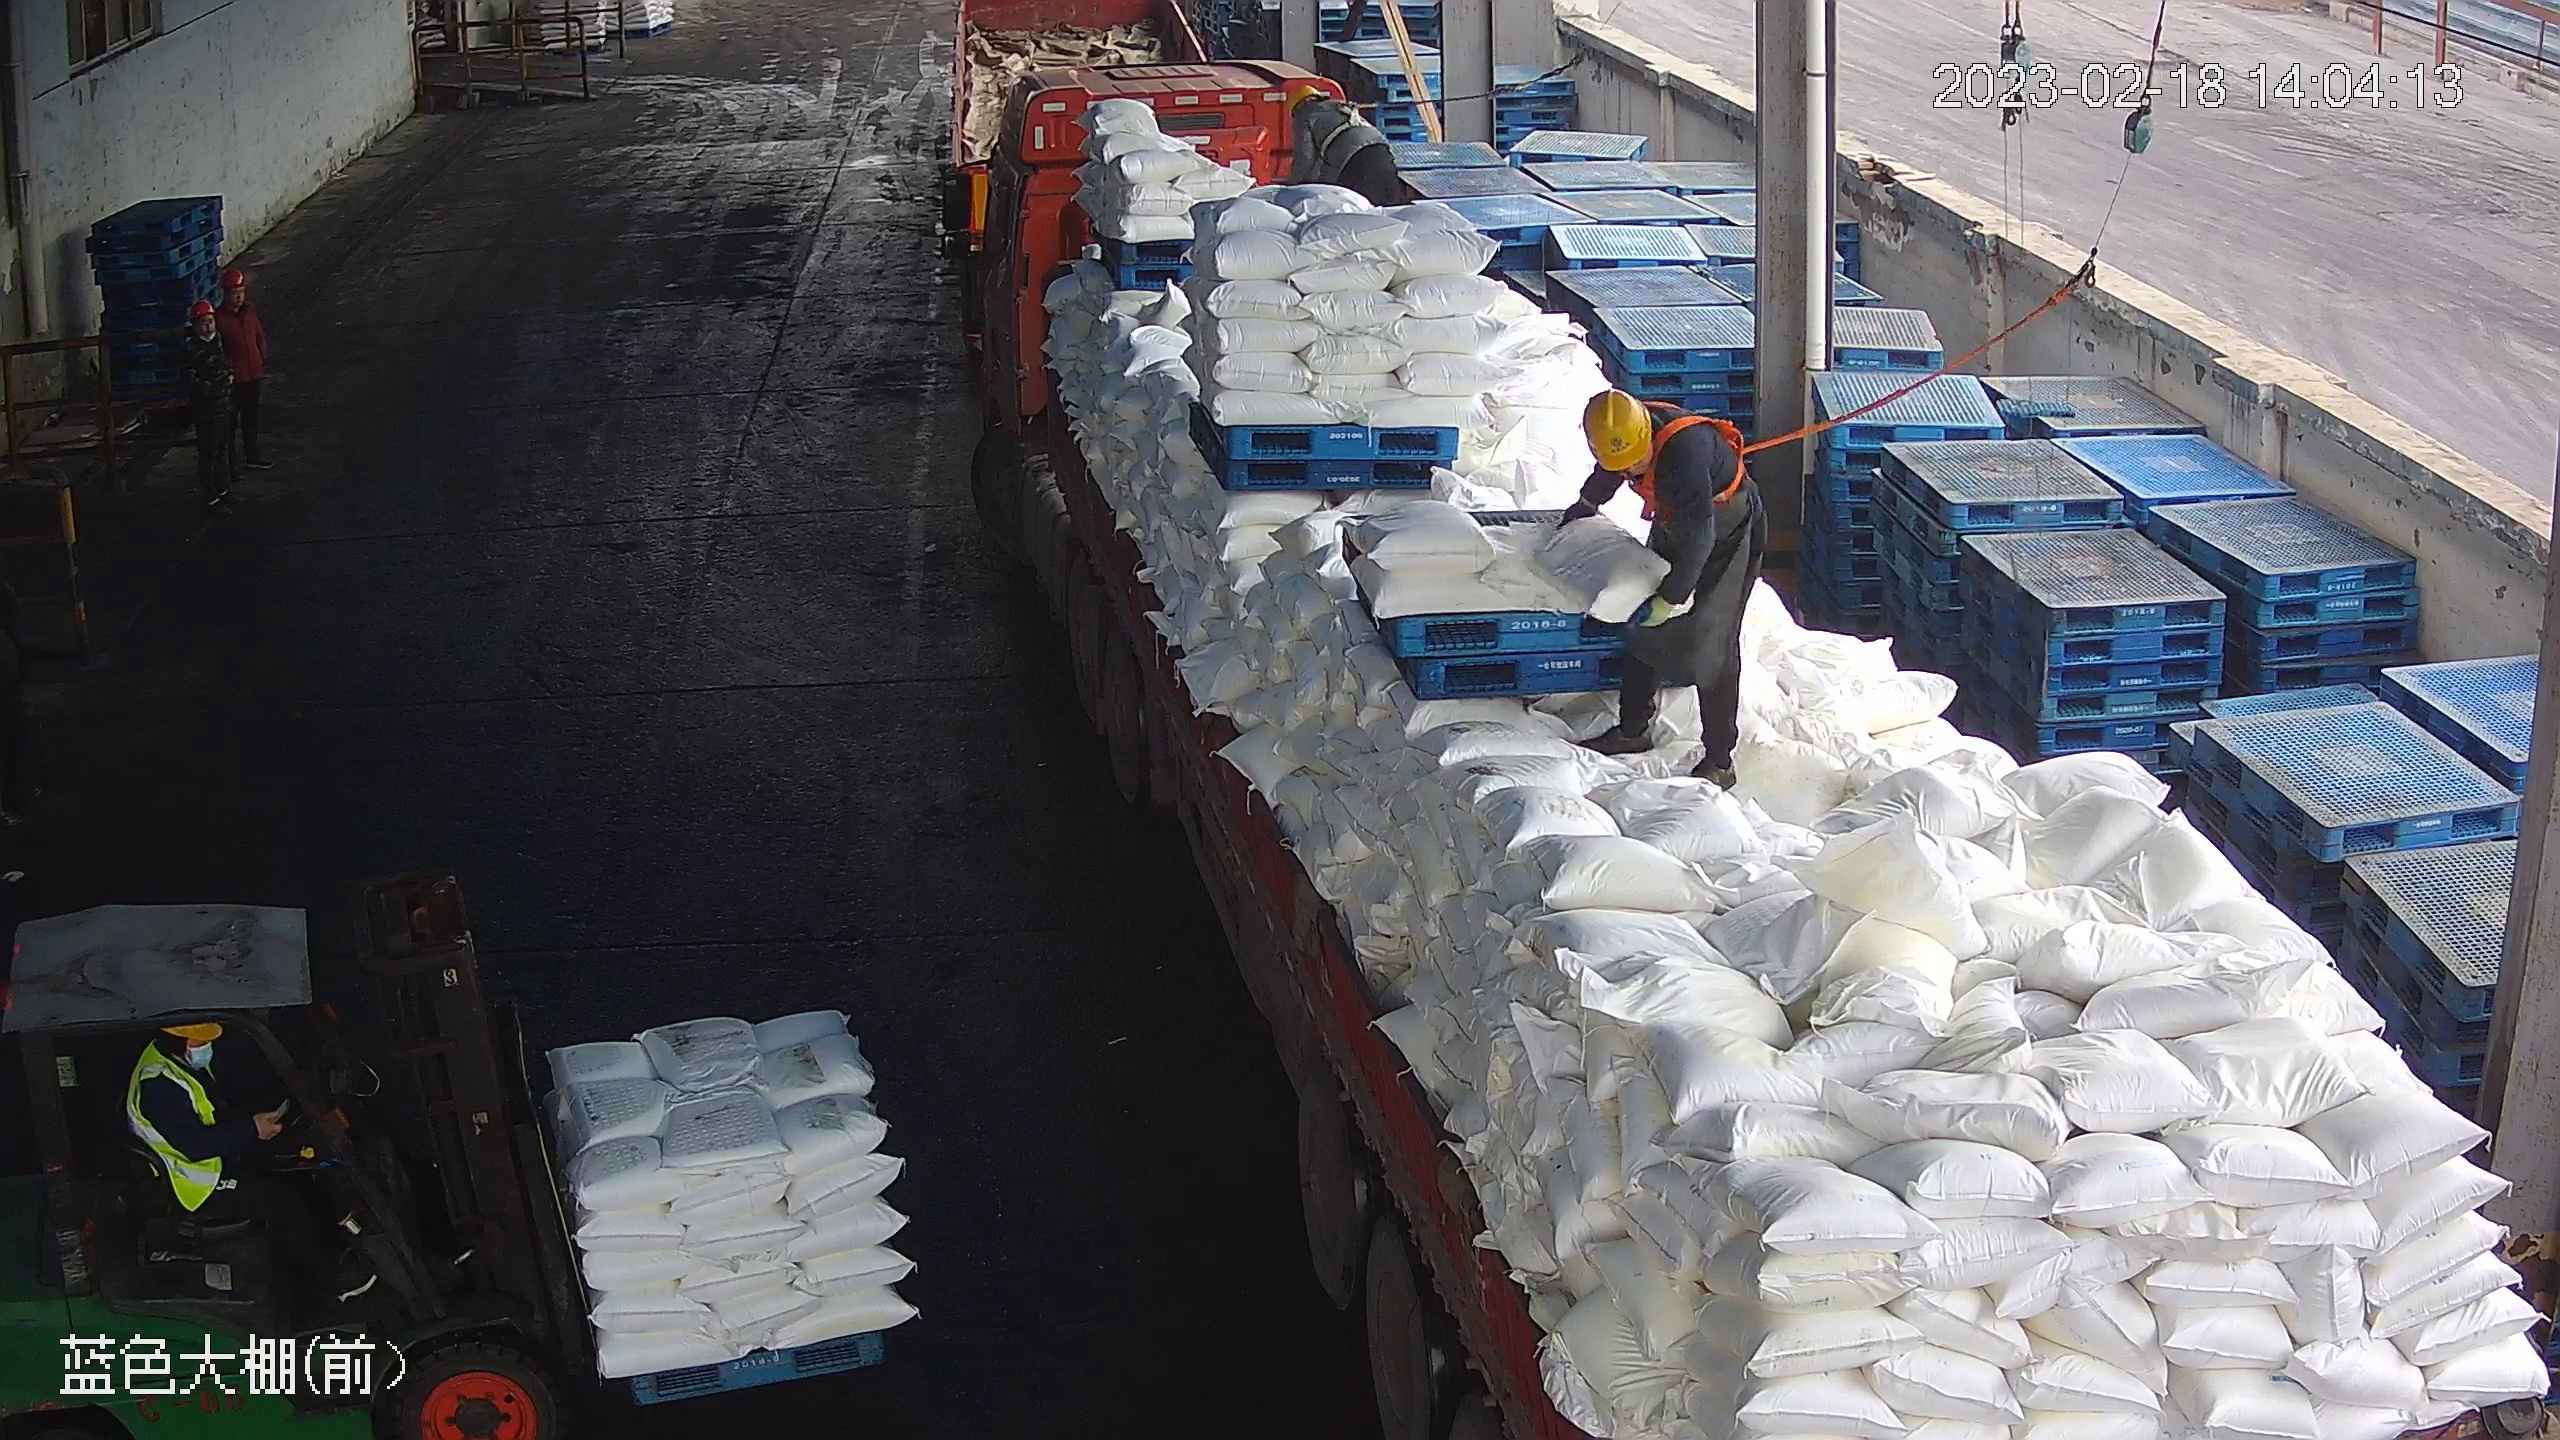belt: (1639, 403, 1757, 512), (1311, 96, 1374, 158)
head: (1577, 385, 1719, 496), (133, 1016, 237, 1115), (1288, 84, 1363, 138), (207, 254, 267, 318), (183, 284, 236, 353), (1285, 82, 1332, 118)
helmet: (1580, 385, 1650, 468), (1287, 82, 1331, 115)
people: (1548, 381, 1764, 790), (124, 1008, 295, 1268), (196, 263, 271, 509), (1282, 85, 1407, 202)
truck: (958, 46, 2554, 1440)
